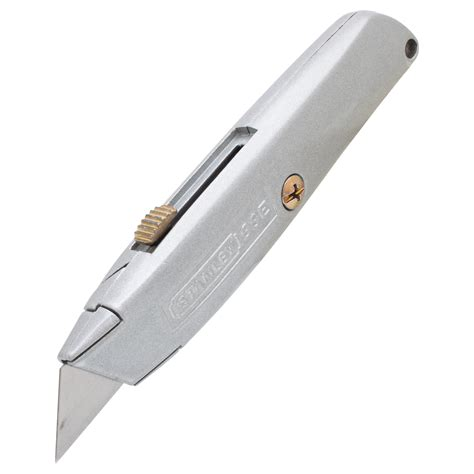knife: (54, 8, 420, 464)
